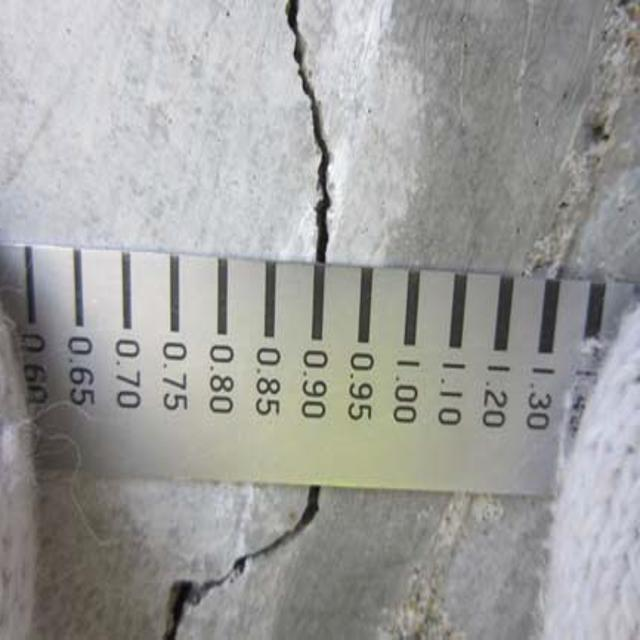crack: (143, 494, 328, 637), (272, 6, 362, 260)
